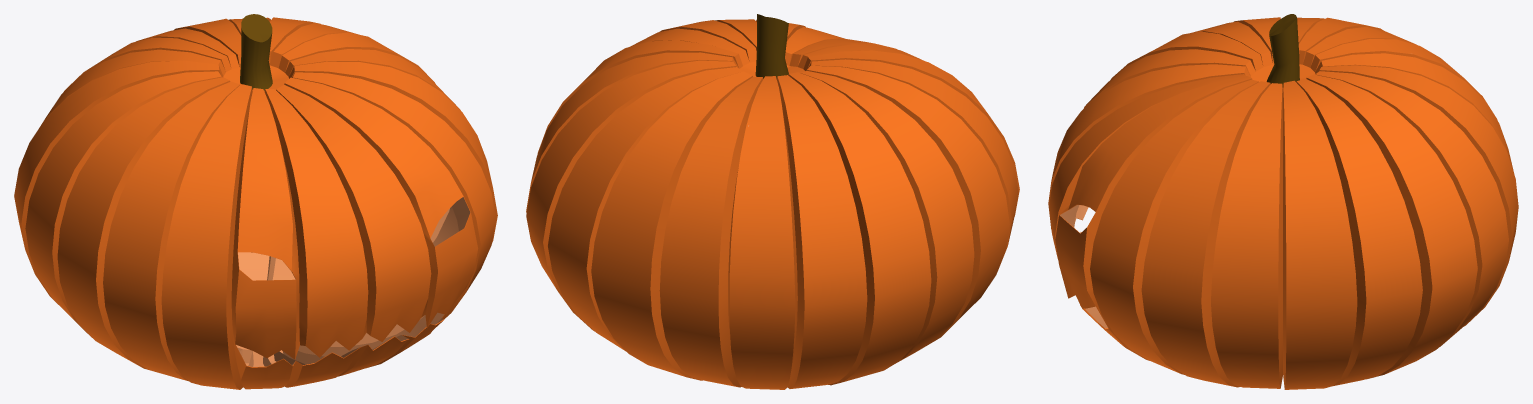
File: pumpkin_noTexture.fbx
The picture shows the model from 3 angles, left to right: view 1: azimuth 30°, elevation 25°; view 2: azimuth 150°, elevation 25°; view 3: azimuth 270°, elevation 25°; orthographic projection. The views are drawn at different scales.
Parts seen in each view (by area): view 1: Pumpkin; view 2: Pumpkin; view 3: Pumpkin.
Boxes of the visible parts, left/top/right/bottom form: Pumpkin: left=14, top=14, right=497, bottom=389; Pumpkin: left=526, top=14, right=1019, bottom=389; Pumpkin: left=1048, top=14, right=1518, bottom=389.
Bounding box in the file's own units: 1.3 × 1.01 × 1.3.
